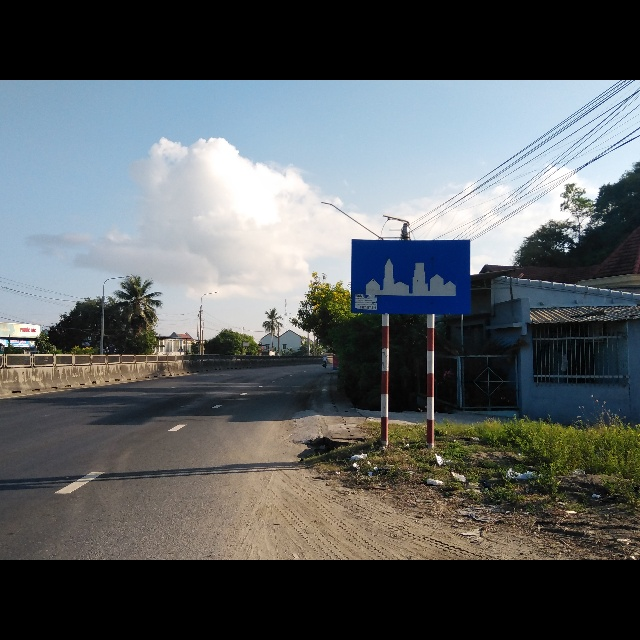Khu đông dân cư: (350, 238, 472, 318)
